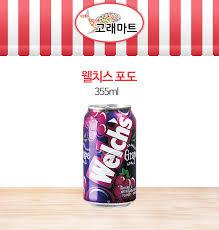welchs_grape: (84, 99, 139, 212)
